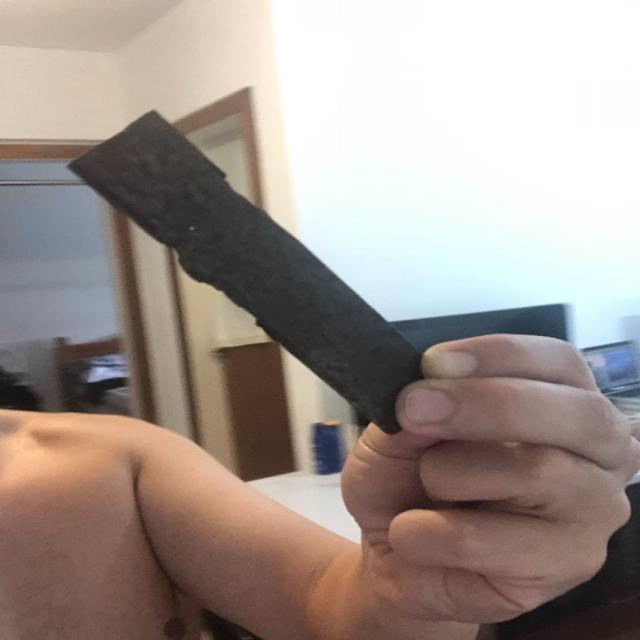Corrosion: (67, 110, 420, 434)
